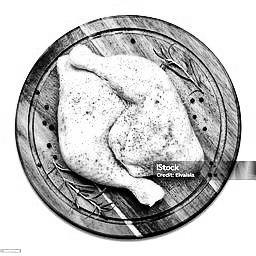bukan telur: (54, 45, 205, 208)
